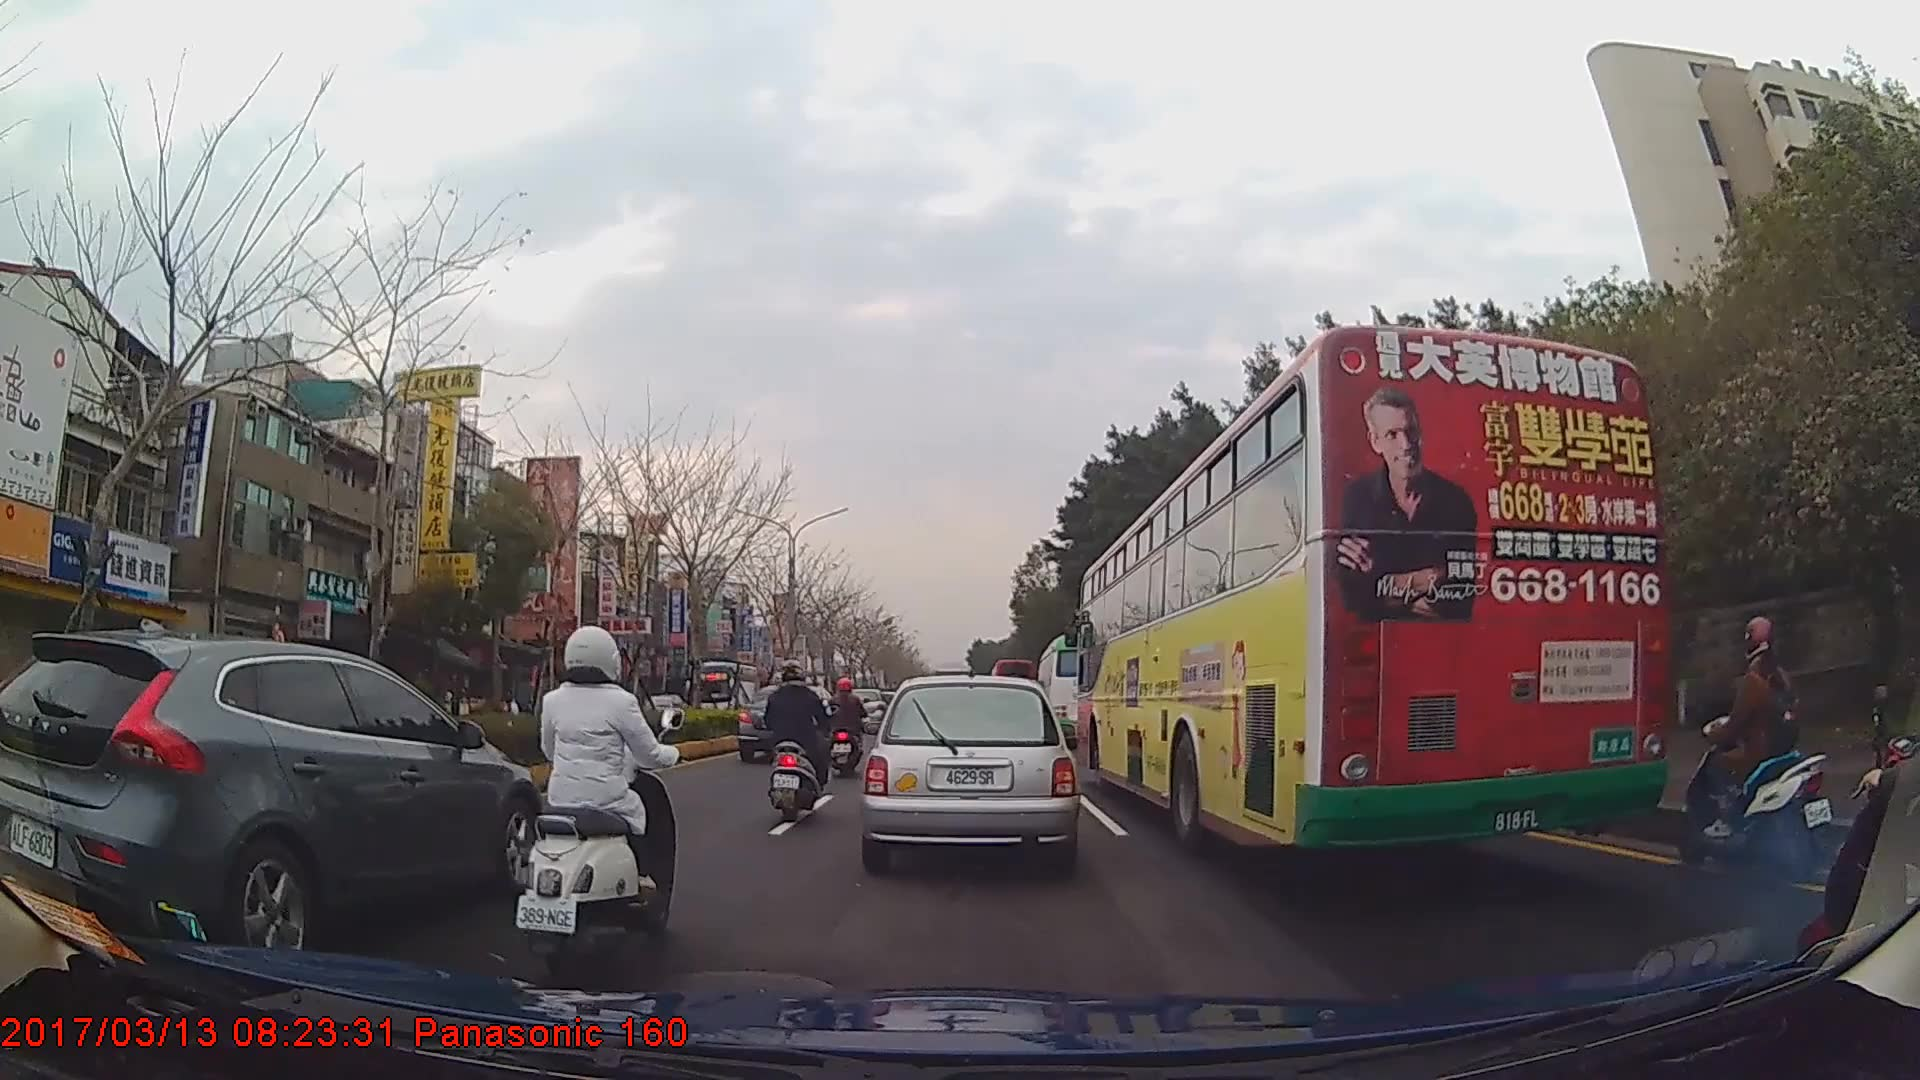rider: (520, 623, 689, 983), (1799, 543, 1920, 1023), (1688, 611, 1833, 873), (760, 663, 828, 821), (826, 679, 867, 773)
vehicle: (1075, 323, 1669, 859), (0, 629, 558, 968), (861, 674, 1077, 872), (1038, 632, 1125, 750), (736, 683, 838, 761), (692, 661, 758, 727)
